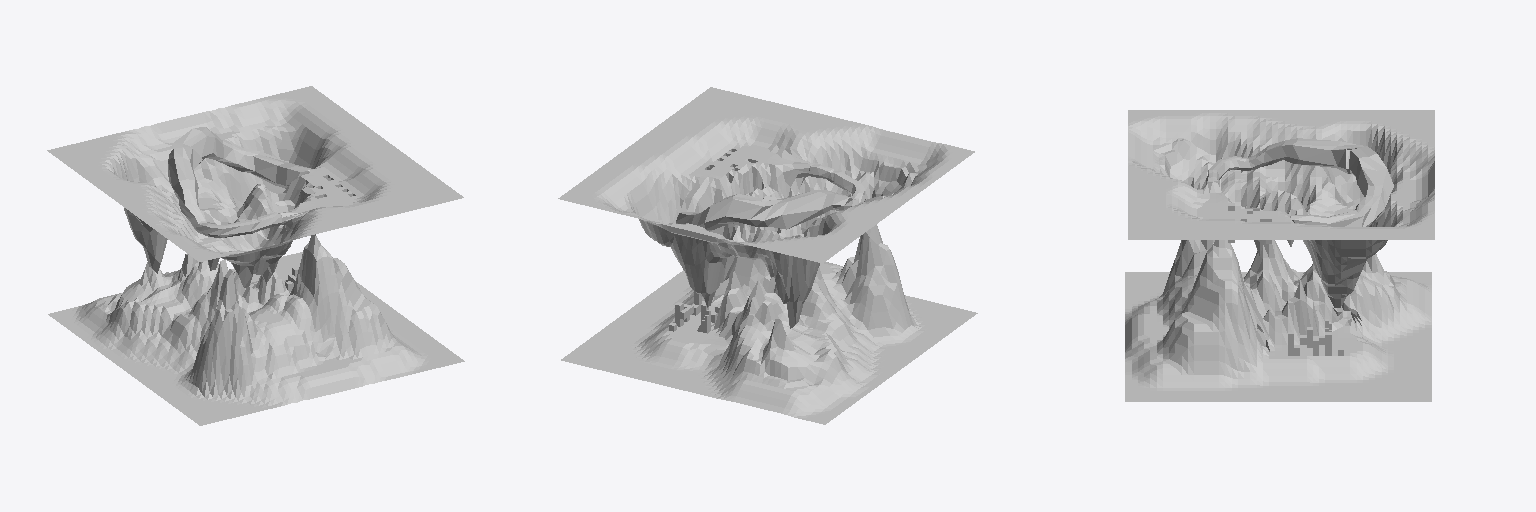
File: Map1_overhead_inception_WIP.obj
3 views of the same model, side by side, from view 1: azimuth 30°, elevation 25°; view 2: azimuth 150°, elevation 25°; view 3: azimuth 270°, elevation 25° (orthographic).
Parts seen in each view (by area): view 1: Plane.001; view 2: Plane.001; view 3: Plane.001.
Boxes of the visible parts, <box> form: Plane.001: <box>47,86,464,425</box>; Plane.001: <box>558,87,977,424</box>; Plane.001: <box>1125,110,1434,401</box>.
Bounding box in the file's own units: 40.13 × 27.64 × 40.38.